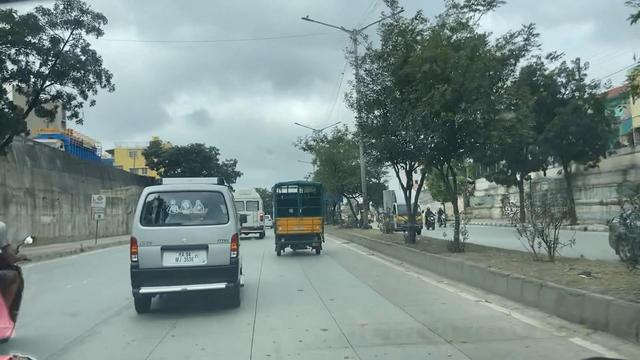HMV: (265, 176, 331, 265)
LMV: (134, 164, 242, 327)
